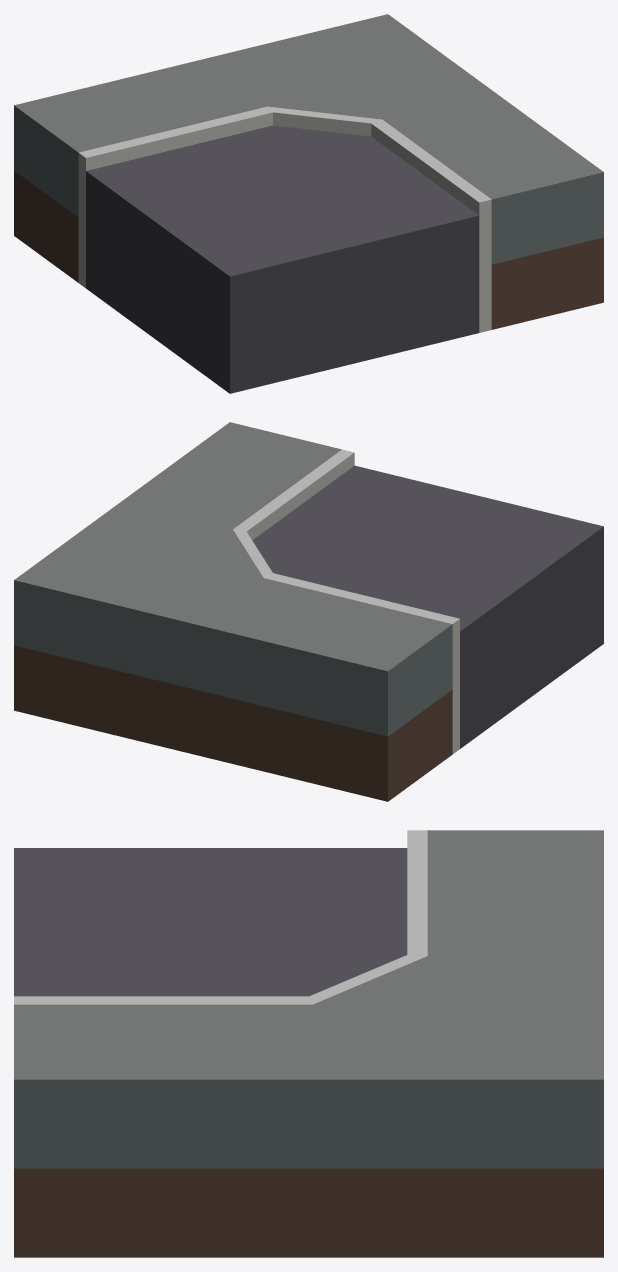
Rendered from TB_CITY_Road_H.FBX.
The picture shows the model from 3 angles, top to bottom: view 1: azimuth 30°, elevation 25°; view 2: azimuth 150°, elevation 25°; view 3: azimuth 270°, elevation 25°; orthographic projection. The views are drawn at different scales.
Visible parts, largest first — view 1: TB_CITY_Road_H; view 2: TB_CITY_Road_H; view 3: TB_CITY_Road_H.
Part boxes in pixels (box(x1,y1,x2,y2)): TB_CITY_Road_H: box(14, 14, 603, 393); TB_CITY_Road_H: box(14, 422, 603, 801); TB_CITY_Road_H: box(14, 830, 603, 1257).
Bounding box in the file's own units: 30 × 10 × 30.
